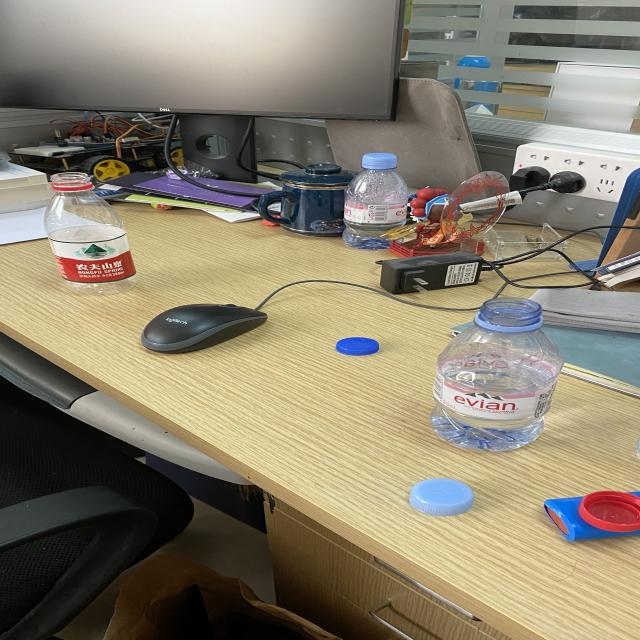Anorganik: (439, 299, 564, 444), (43, 172, 140, 288), (348, 148, 404, 257)
